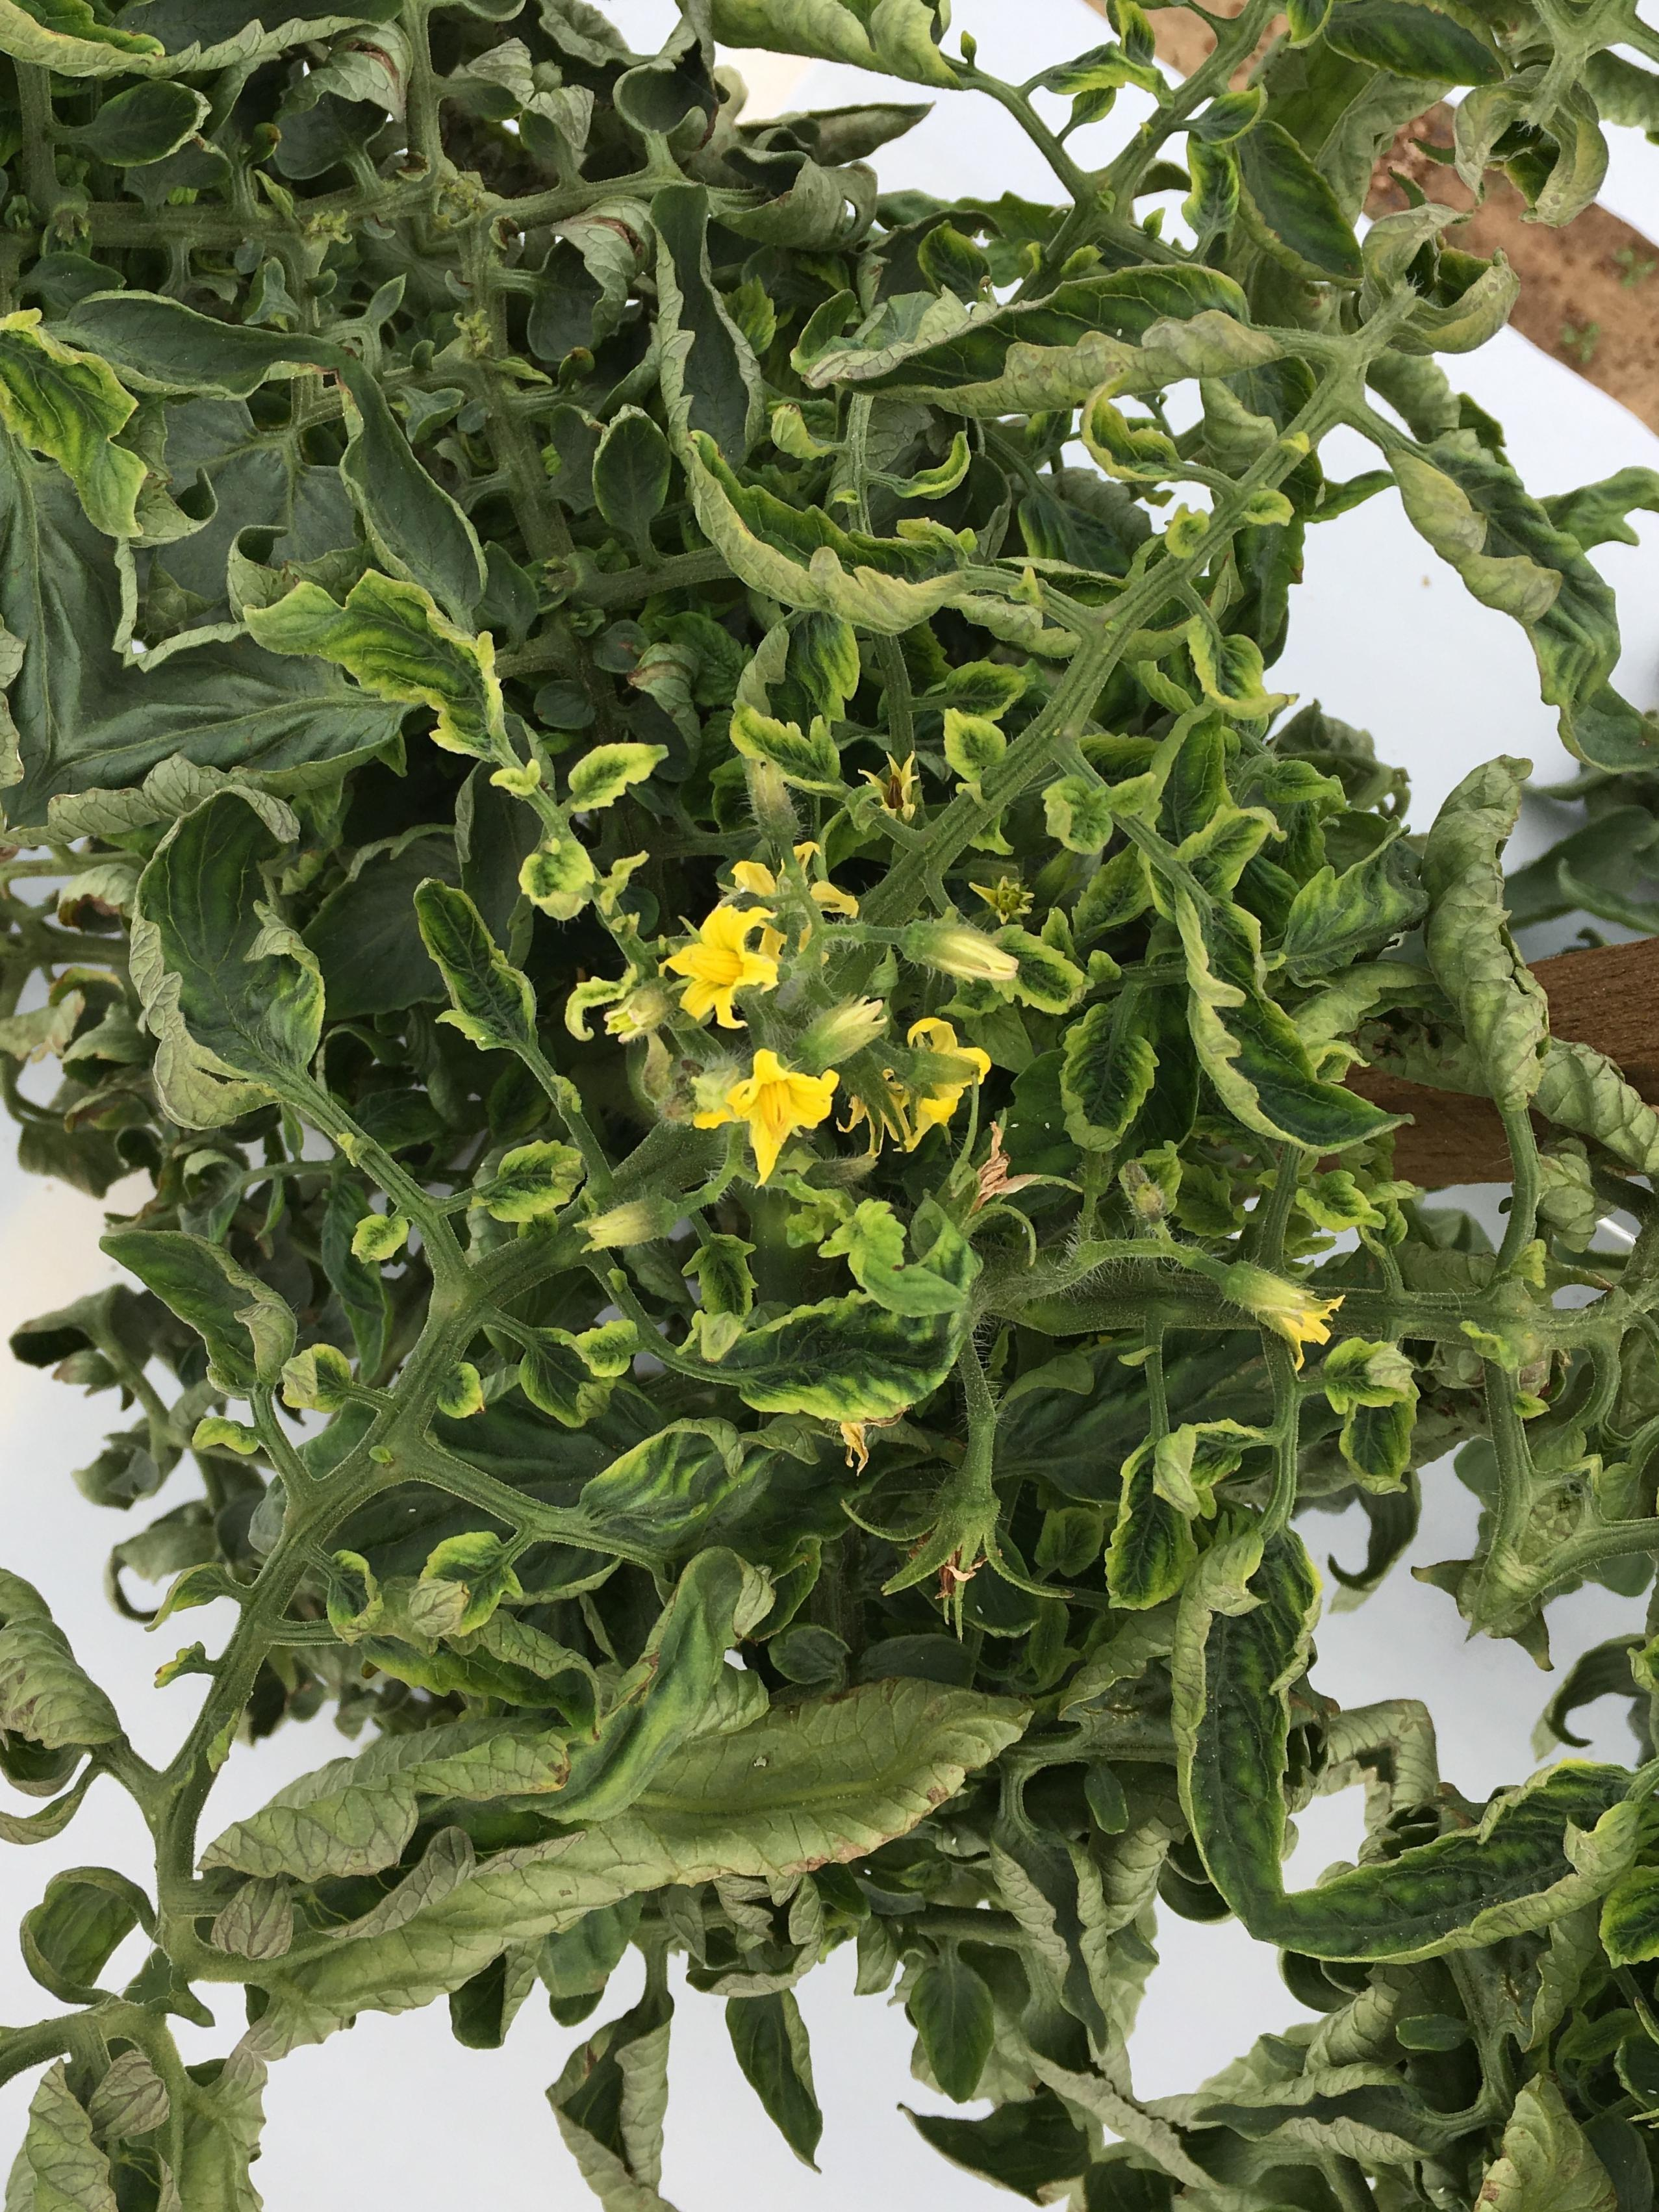Tomato leaf yellow virus: (559, 268, 1103, 743), (2, 725, 464, 1213), (1049, 772, 1513, 1220), (150, 455, 596, 873), (669, 1128, 1053, 1522), (542, 1295, 906, 1654), (1028, 1367, 1316, 1679), (1009, 967, 1218, 1180)
